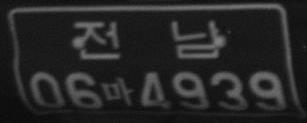0: (28, 70, 65, 110)
3: (210, 71, 248, 113)
4: (140, 71, 169, 110)
6: (66, 71, 101, 108)
9: (248, 70, 287, 112), (172, 70, 208, 110)
마: (102, 77, 134, 105)
전남_D: (72, 20, 225, 60)
